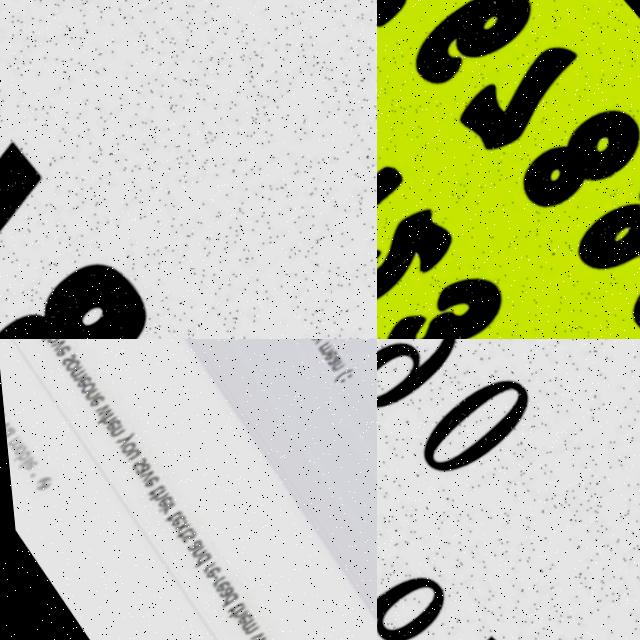0: (377, 339, 574, 531), (0, 0, 245, 46), (558, 210, 640, 339)
1: (377, 136, 426, 291)
2: (377, 184, 476, 339)
3: (377, 244, 532, 339)
4: (377, 294, 599, 339)
5: (377, 0, 523, 76)
6: (377, 0, 567, 135), (377, 529, 485, 640)
7: (409, 16, 618, 199), (0, 120, 90, 335), (377, 595, 552, 640)
8: (462, 77, 640, 262), (0, 229, 174, 339)
9: (523, 147, 640, 323), (377, 339, 501, 456)
A: (125, 463, 146, 479), (206, 588, 226, 604), (177, 541, 196, 557), (320, 359, 338, 374), (0, 427, 11, 441)
B: (5, 450, 25, 465)
D: (181, 554, 205, 573), (209, 594, 231, 612)
E: (134, 476, 154, 492), (48, 344, 67, 360), (82, 395, 101, 411), (146, 496, 165, 512), (159, 516, 178, 532), (15, 459, 33, 474), (69, 376, 87, 391), (195, 568, 213, 583), (204, 583, 222, 598), (224, 615, 242, 630), (317, 353, 335, 368), (97, 421, 115, 435), (237, 634, 257, 640), (299, 339, 318, 342)
H: (140, 490, 162, 508), (217, 609, 239, 627), (91, 415, 111, 430)
I: (149, 504, 166, 515), (11, 458, 26, 467), (0, 426, 6, 436)
L: (11, 459, 27, 469)
M: (61, 366, 83, 385), (227, 621, 249, 640), (310, 345, 330, 363), (0, 434, 18, 452)
N: (76, 388, 95, 404), (101, 426, 120, 442), (180, 548, 199, 564), (323, 364, 341, 379)
O: (71, 381, 91, 399), (57, 359, 76, 375), (112, 442, 131, 458), (5, 444, 22, 457), (40, 339, 59, 347)
R: (152, 506, 169, 518), (191, 565, 208, 577), (201, 579, 218, 591), (303, 339, 320, 345)
S: (54, 354, 72, 369), (122, 459, 140, 474), (170, 533, 188, 548)
T: (138, 485, 158, 500), (215, 604, 235, 619), (166, 529, 185, 543), (155, 512, 174, 525)
U: (116, 448, 135, 464)
V: (130, 470, 149, 486), (44, 339, 63, 354), (0, 419, 6, 433)
W: (87, 404, 108, 422)
X: (164, 522, 183, 538)
Y: (108, 432, 131, 451), (305, 339, 325, 350)
